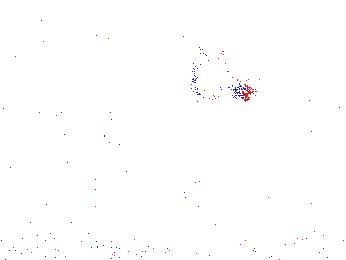flame jellyfish: (281, 170, 346, 223), (185, 56, 253, 102), (219, 159, 273, 207)
